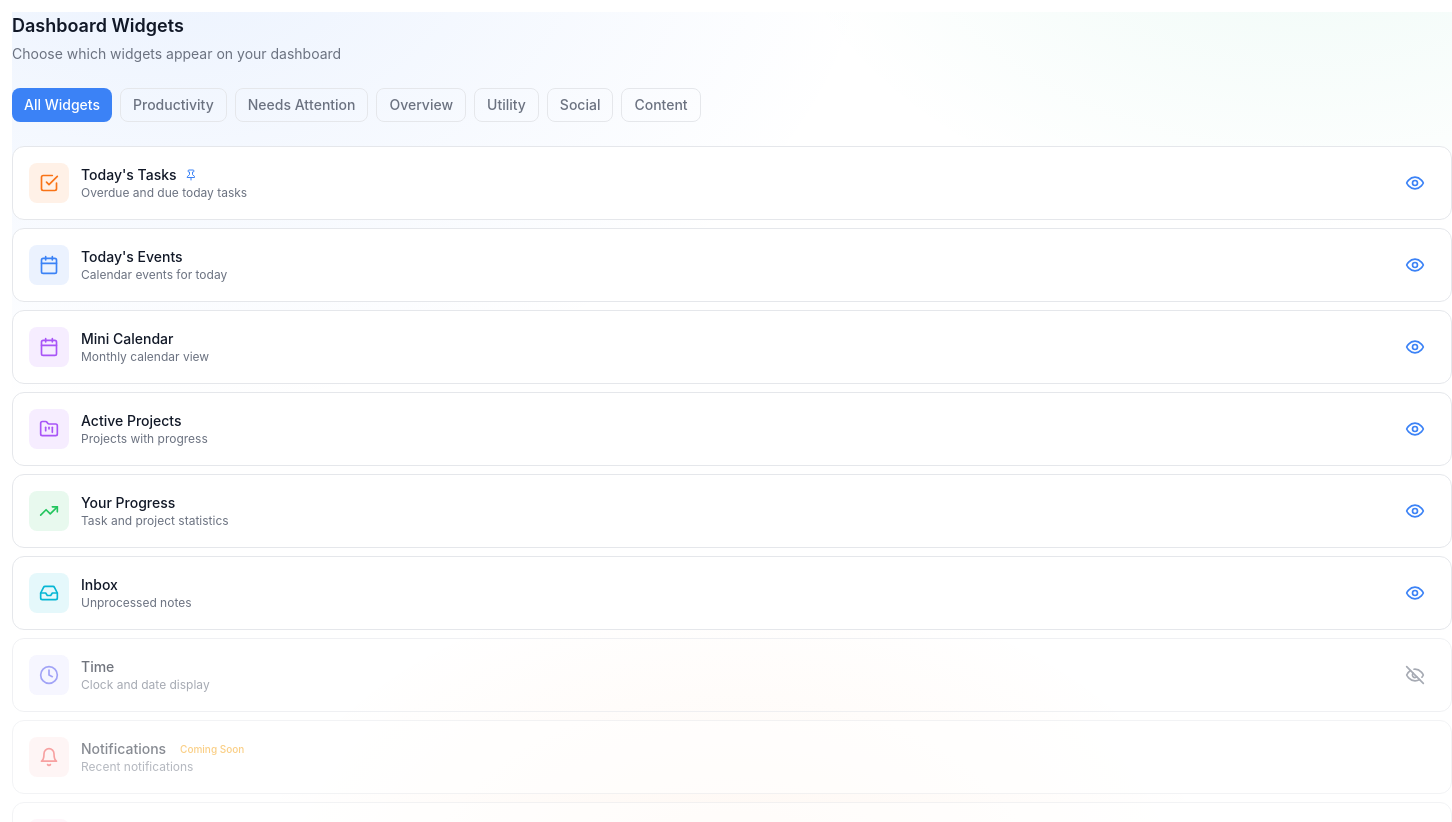
it: WidgetsSettings › Category Filtering › shows only utility widgets when Utility filter is selected
The width and height of the screenshot is (1452, 822).
Click the button "Utility" at (506, 105), box left=474, top=88, right=539, bottom=122
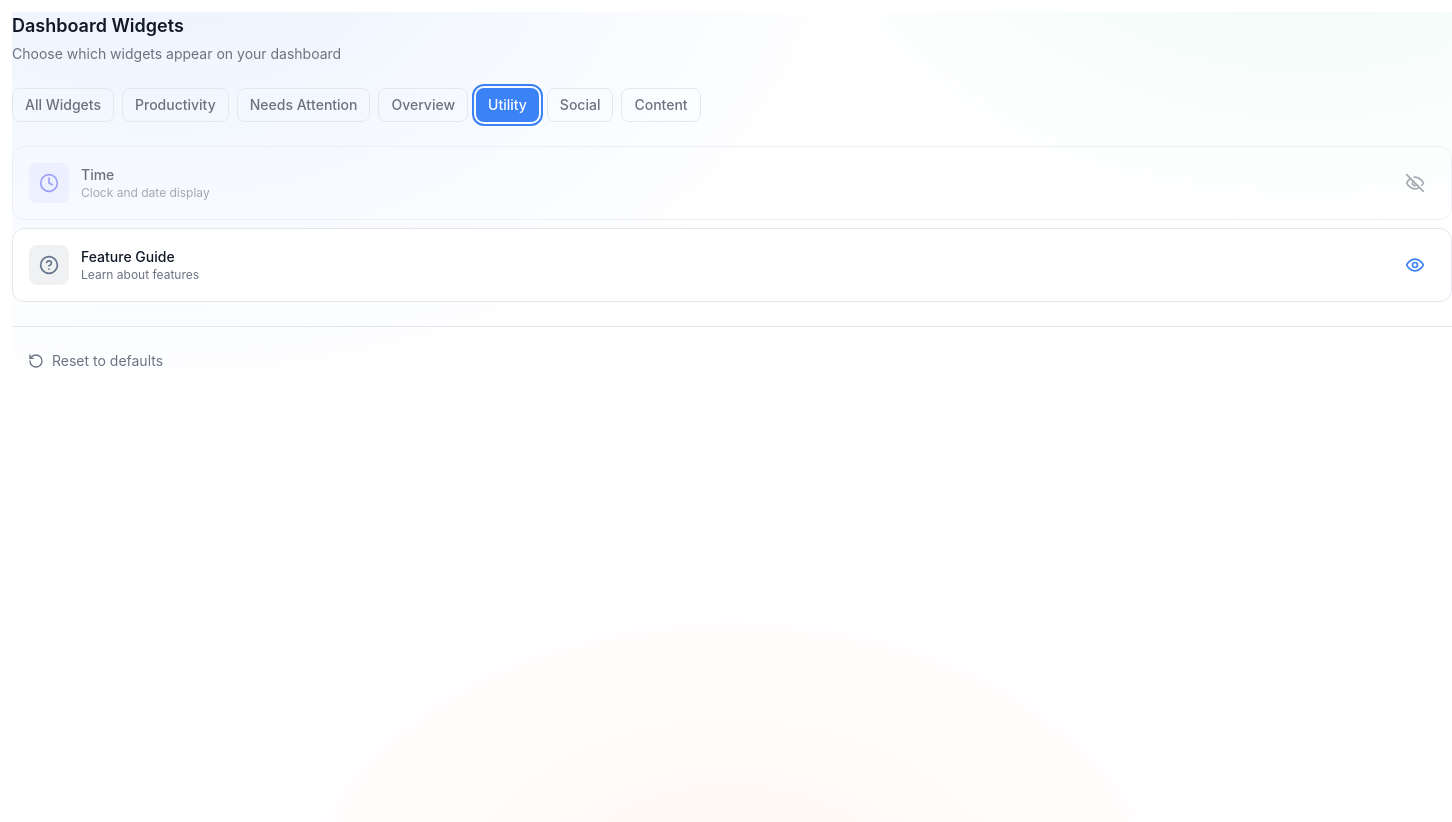
Expected: the text "Time" is shown, left=81, top=165, right=114, bottom=185
Now the text "Today's Tasks" is gone
